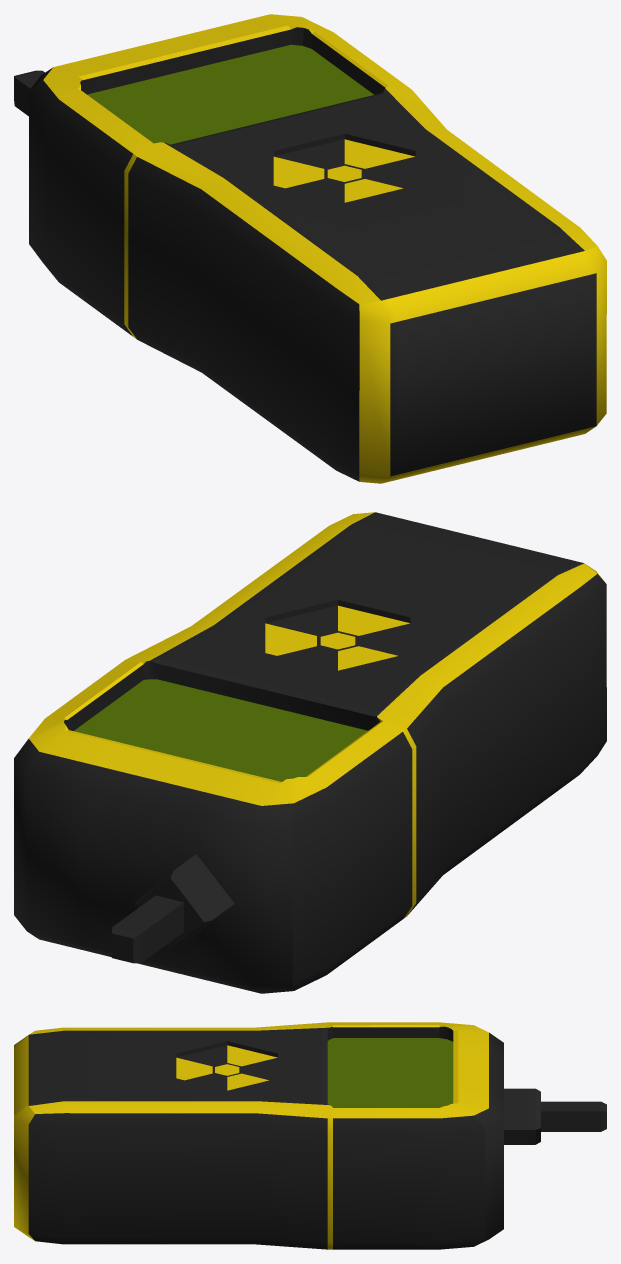
Rendered from Дозиметр.fbx.
3 renders of one model, top to bottom at view 1: azimuth 30°, elevation 25°; view 2: azimuth 150°, elevation 25°; view 3: azimuth 270°, elevation 25°, orthographic. The views are drawn at different scales.
Parts seen in each view (by area): view 1: Cube.001; view 2: Cube.001; view 3: Cube.001.
Boxes of the visible parts, x1,y1,x2,y2 form: Cube.001: (14, 14, 606, 483); Cube.001: (14, 512, 606, 993); Cube.001: (14, 1022, 606, 1249).
Bounding box in the file's own units: 61.34 × 39.13 × 150.
